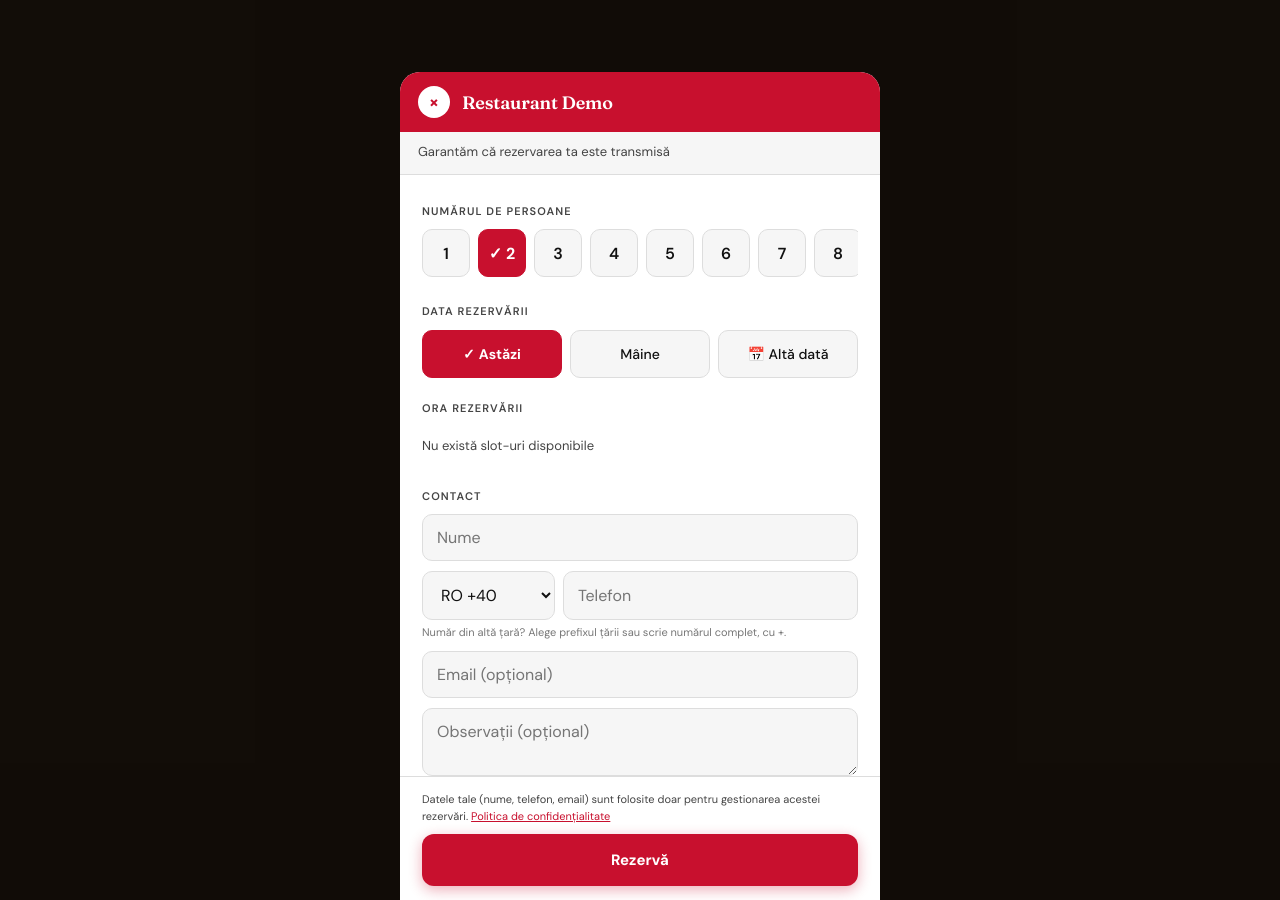
Scenario: ReservationSheet — rândul mort (RESID-32) › RS-C (control pozitiv): un rând VIU ajunge pe ecranul de confirmare
Click the button "Mâine": click(640, 354) left=570, top=330, right=710, bottom=378
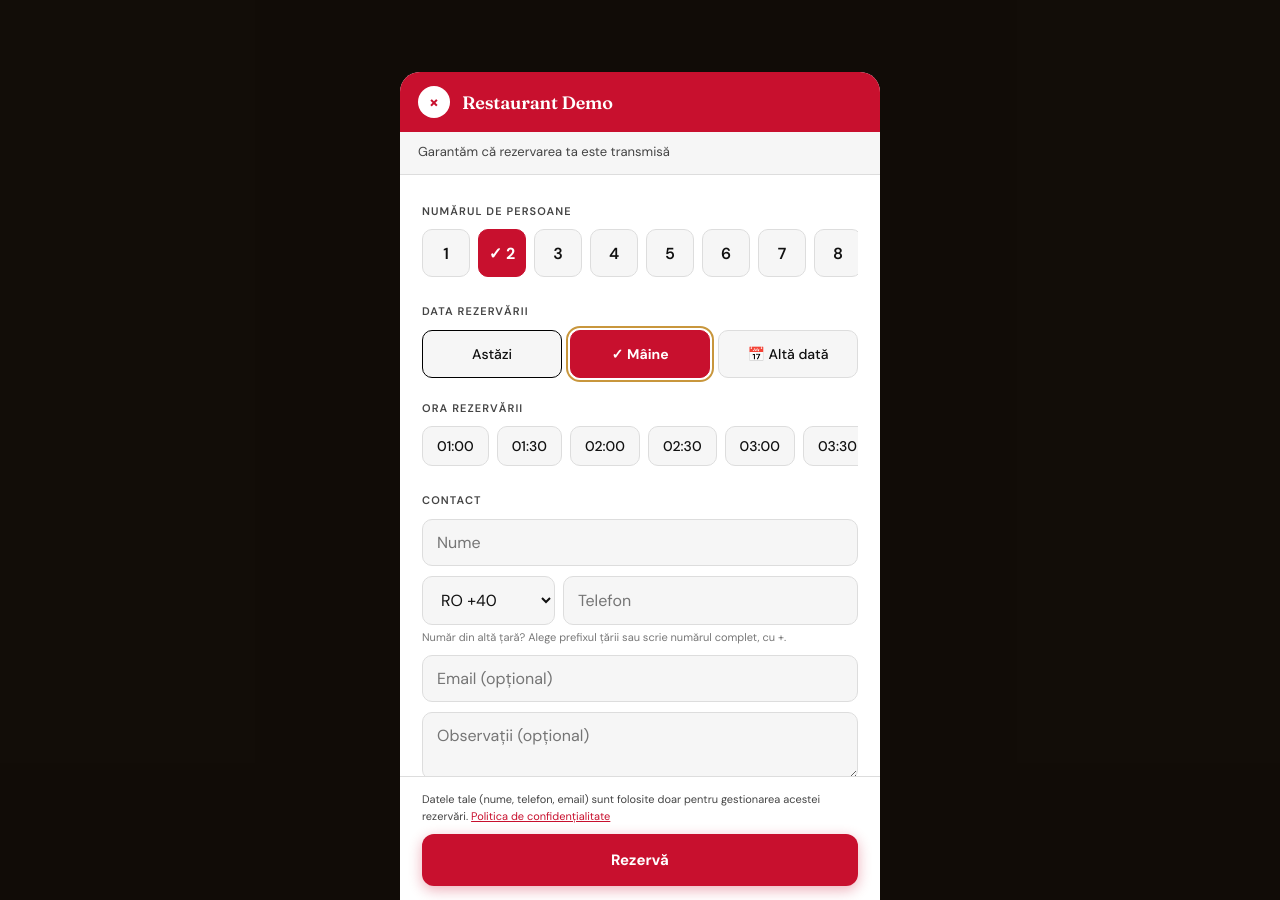
In the field with placeholder "Nume": (640, 542) left=422, top=518, right=858, bottom=566, type "Ana Pop"
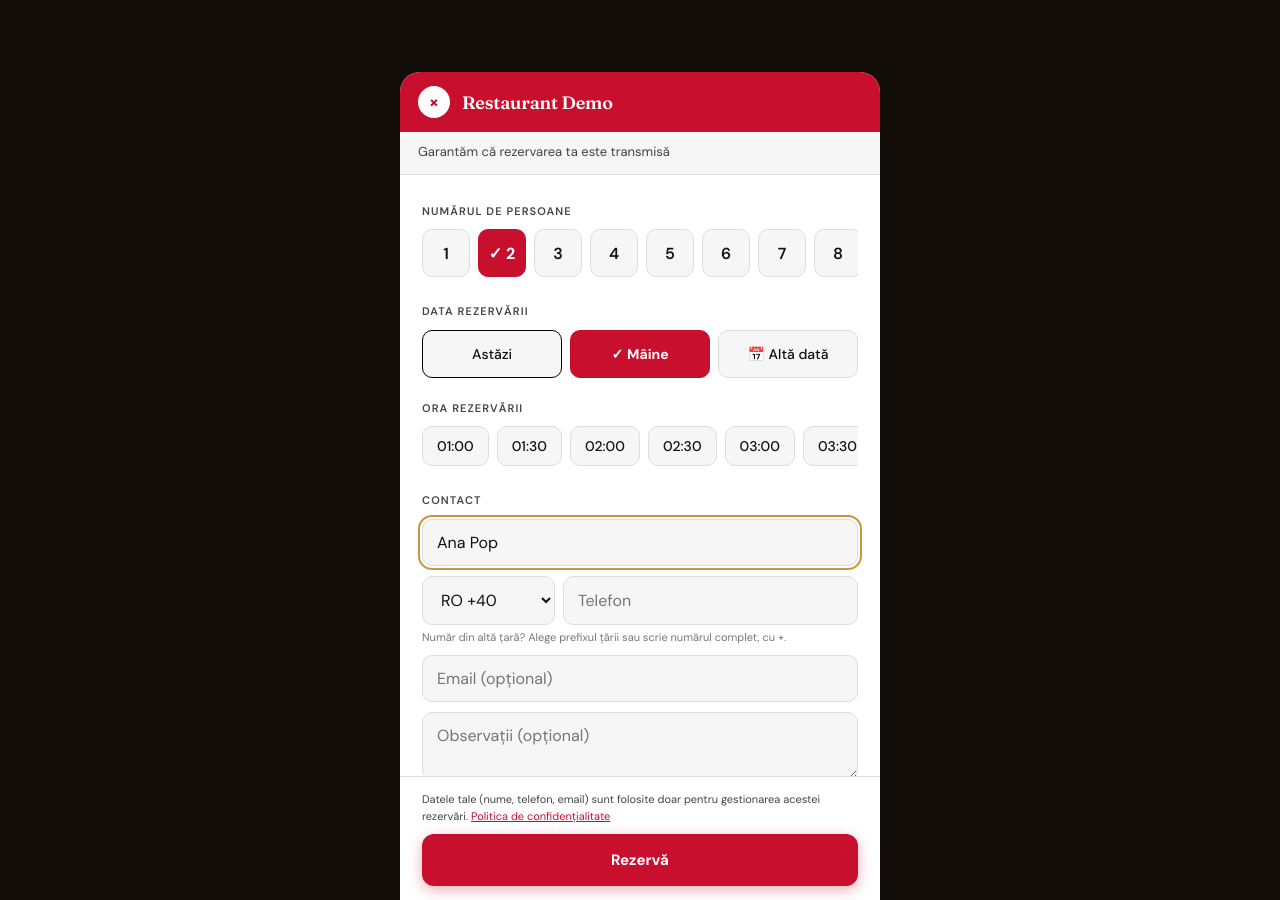
In the field with placeholder "Telefon": (710, 600) left=563, top=576, right=858, bottom=624, type "0722000111"
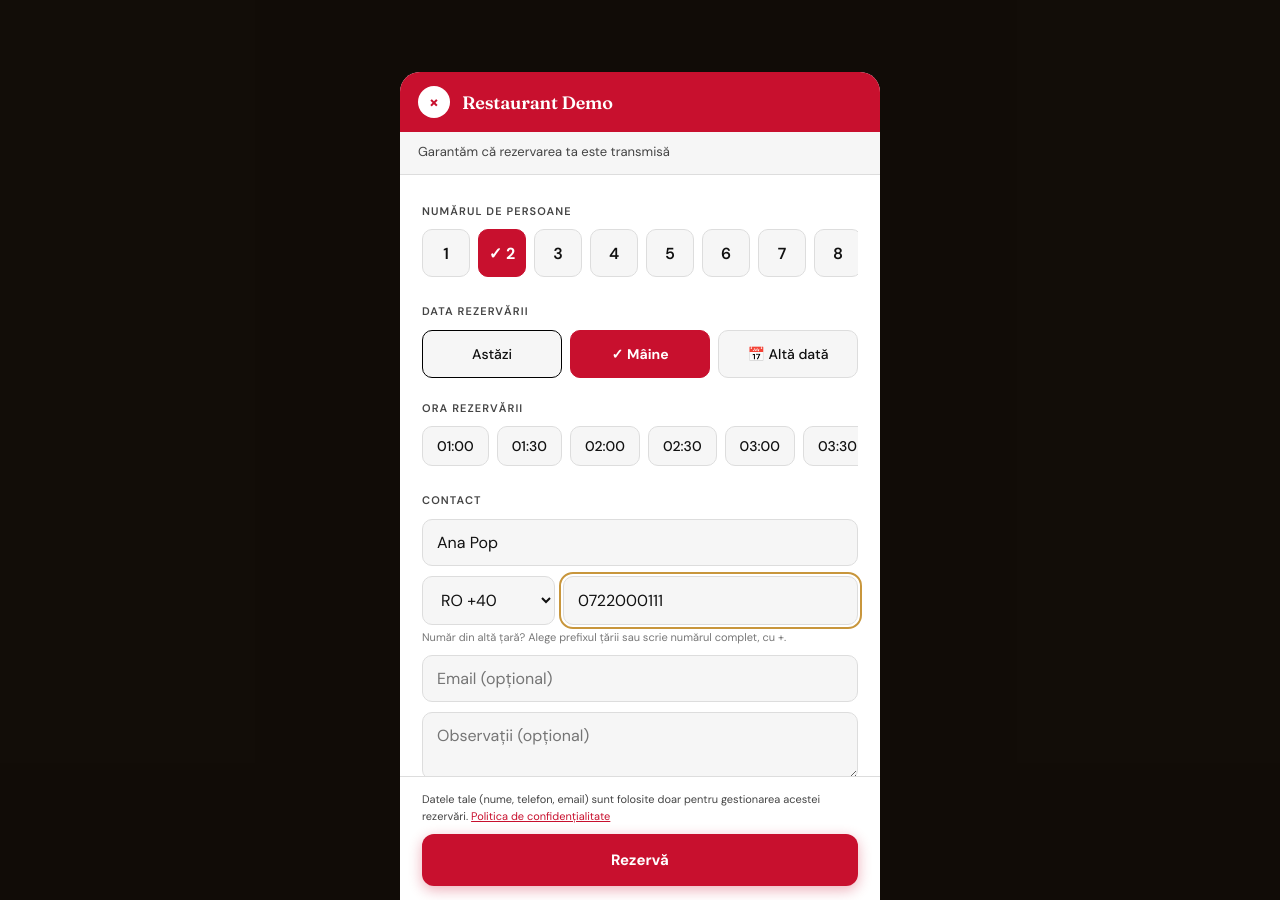
Click the button "01:00": click(455, 446) left=422, top=426, right=489, bottom=466
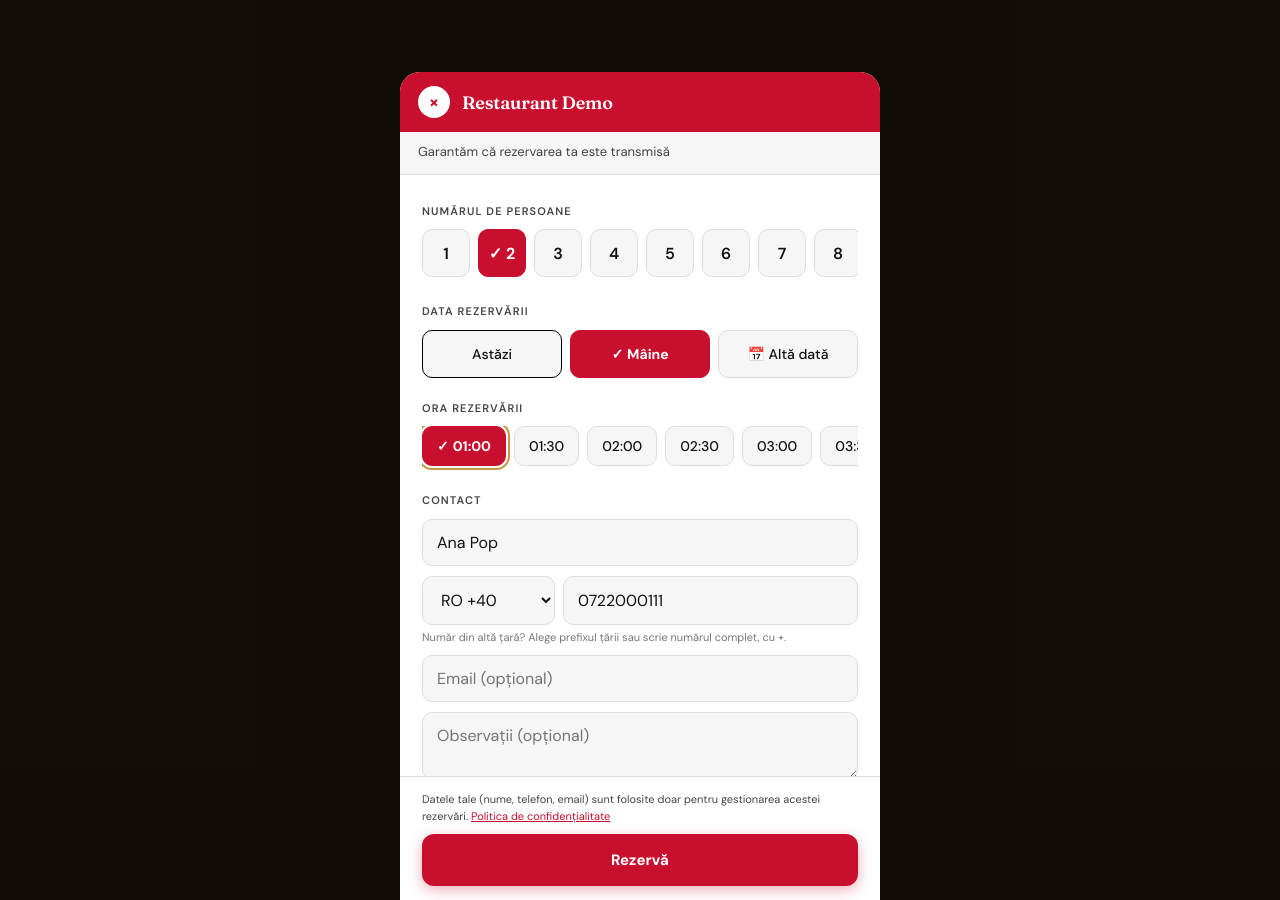
Click the button "Rezervă": click(640, 860) left=422, top=834, right=858, bottom=886
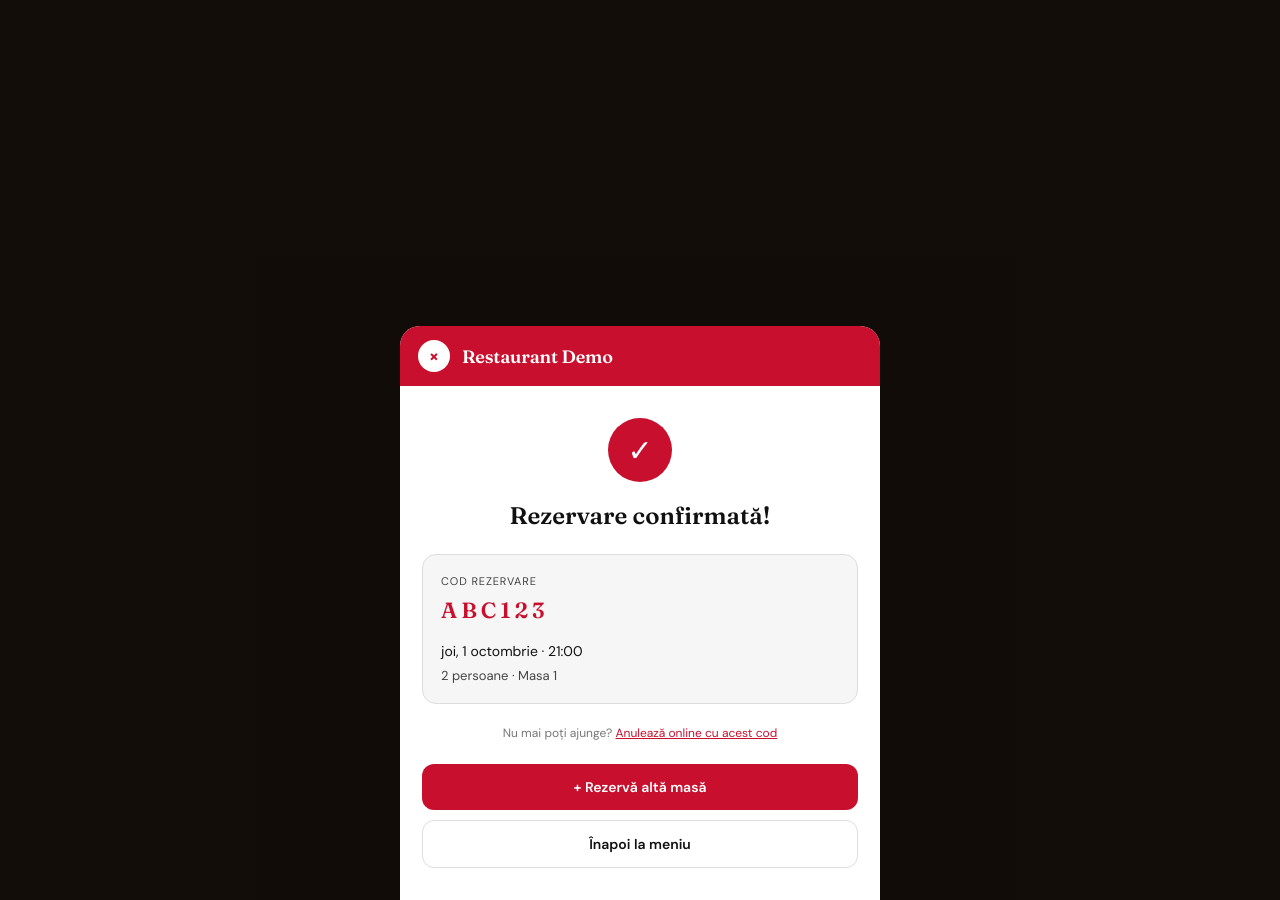
Check: the text "ABC123" is shown, box left=441, top=596, right=548, bottom=624
